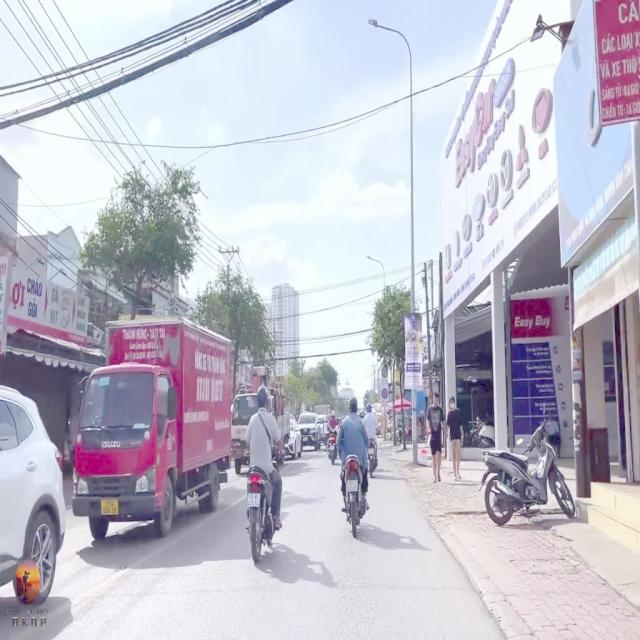cam_do_xe: (382, 388, 388, 398)
cam_dung_xe_va_do_xe: (382, 368, 388, 378)
